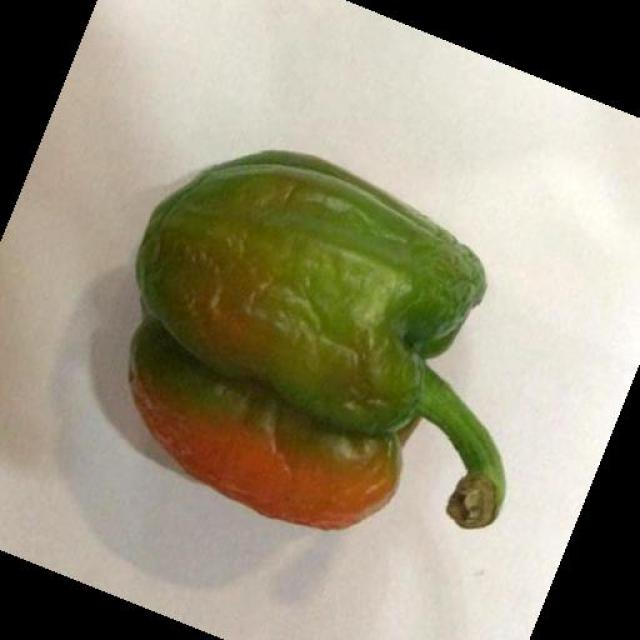Stale_Capsicum: (147, 127, 534, 526)
